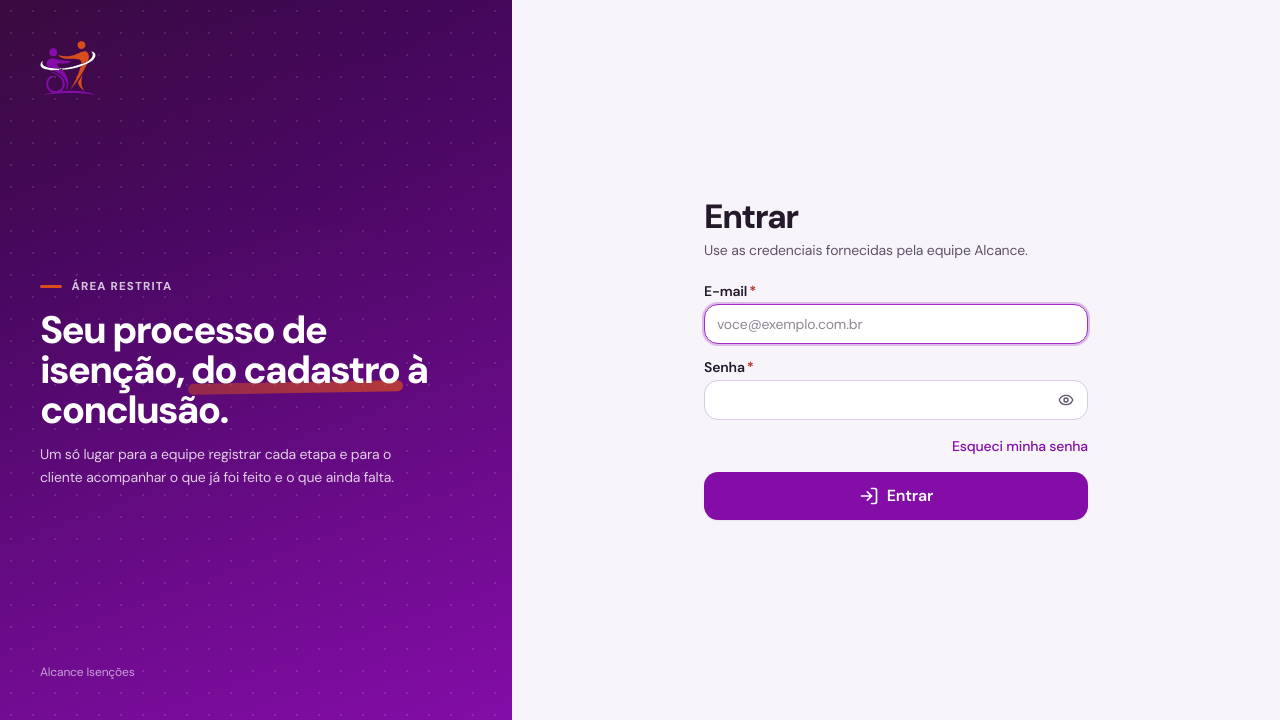
Test case: Aplicação › mostra mensagem genérica quando as credenciais estão erradas
Expected: the heading "Entrar" is shown, [704,195,798,238]
Type "helena@alcanceisencoes.com.br" into the field labelled "E-mail*" at (896, 324), box [704,304,1088,344]
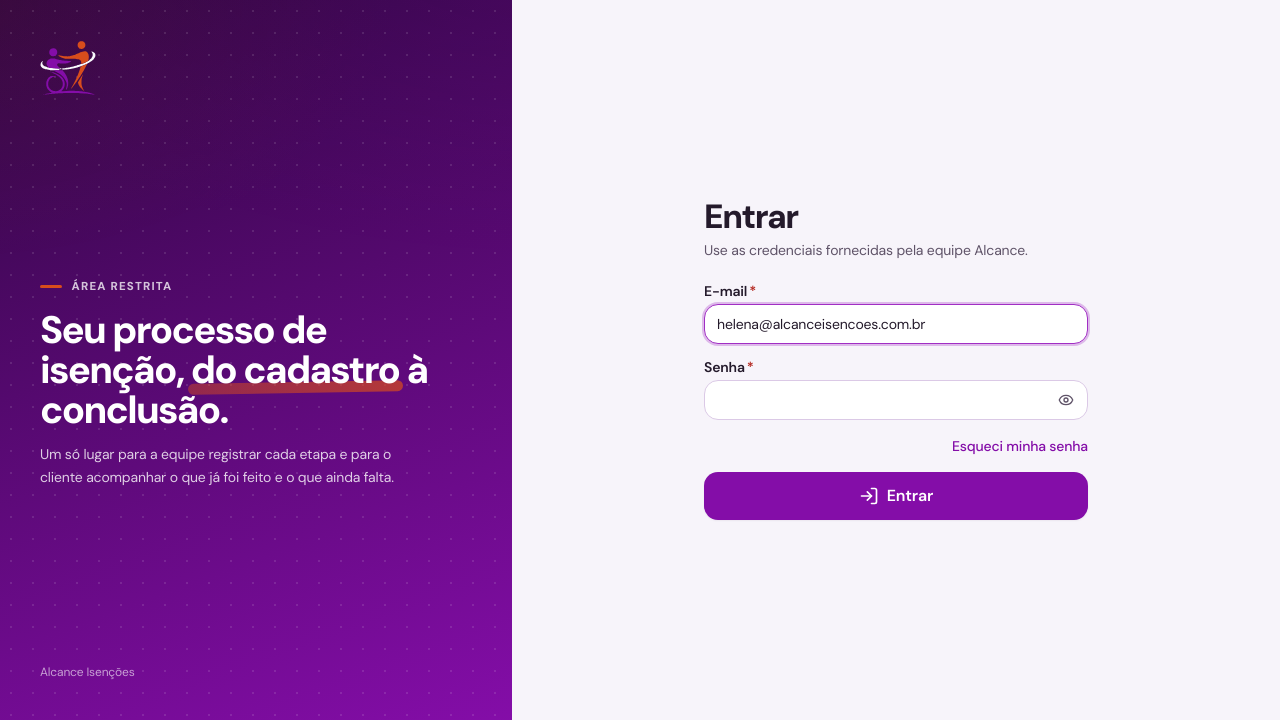
Type "senha-errada" into the password field labelled "Senha*" at (896, 400), box [704,380,1088,420]
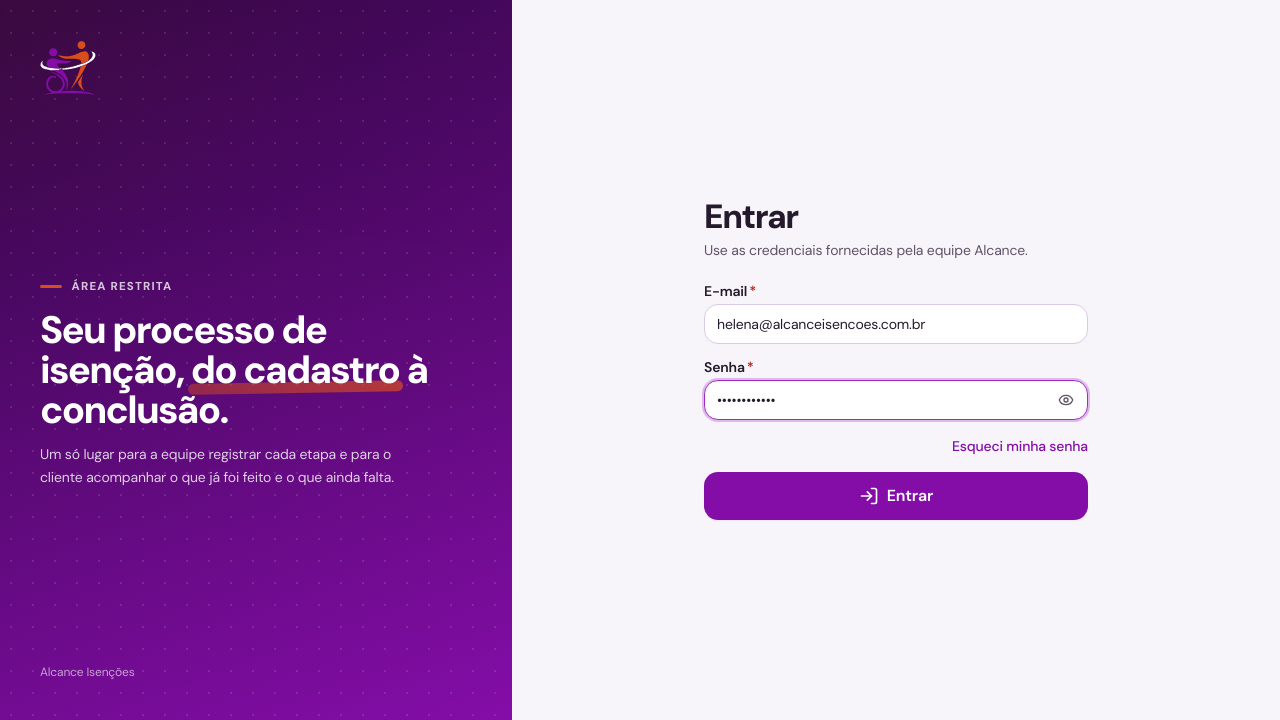
Click the button "Entrar" at (896, 496), box [704,472,1088,520]
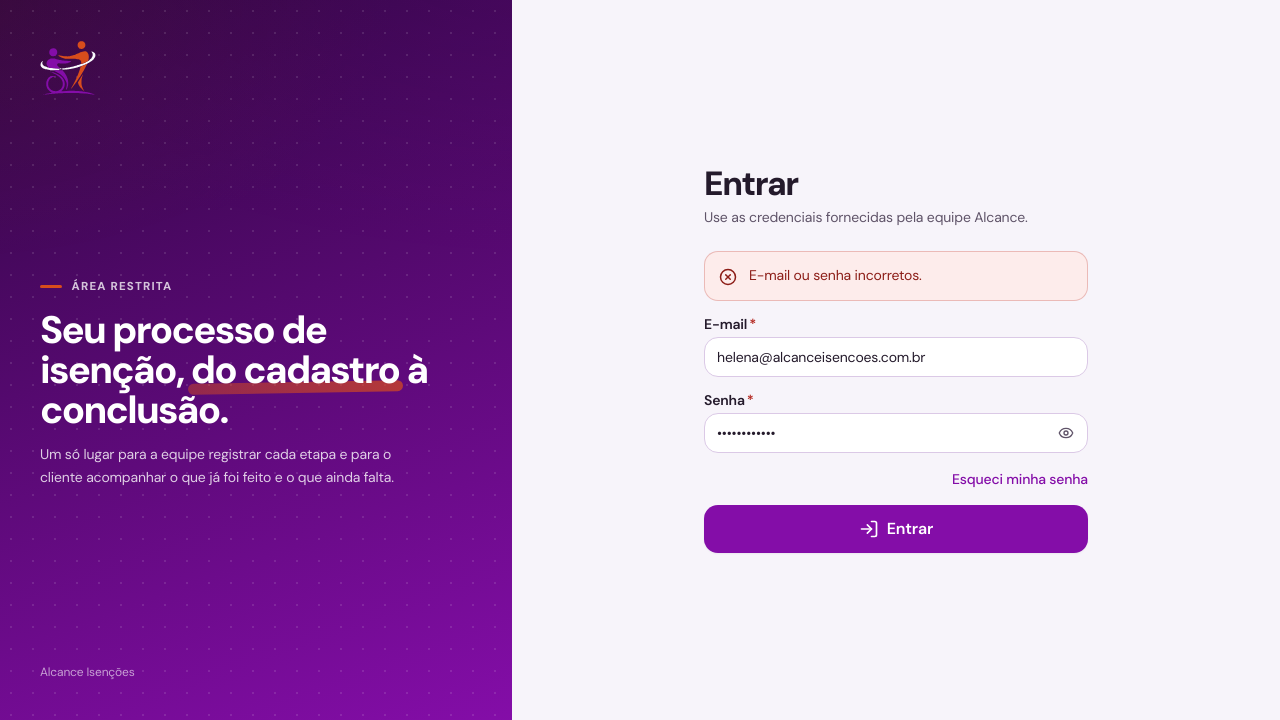
Expected: the text "E-mail ou senha incorretos." is shown, [749,266,922,284]
